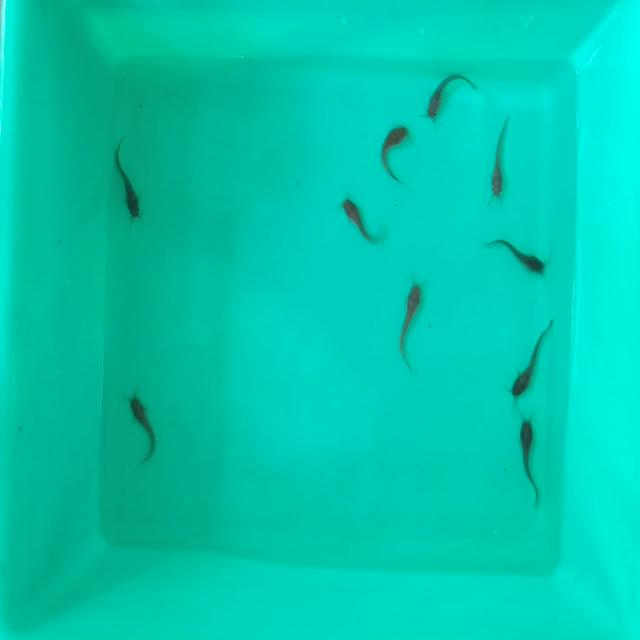lele: (508, 315, 559, 402), (488, 235, 550, 282), (112, 139, 144, 224), (394, 279, 424, 358), (427, 71, 478, 116), (375, 120, 408, 186), (340, 197, 380, 247), (126, 395, 159, 455), (487, 116, 510, 196), (518, 416, 538, 493)
